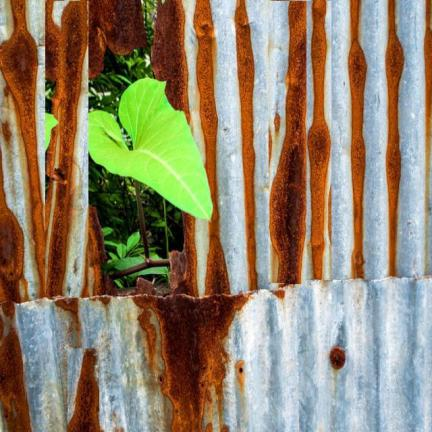besi_tidak_karat: (262, 371, 425, 431)
karat: (134, 295, 248, 431), (270, 2, 306, 282), (308, 0, 330, 279), (348, 0, 367, 278), (386, 0, 403, 276), (89, 0, 145, 78), (0, 317, 31, 431), (68, 349, 101, 431)
